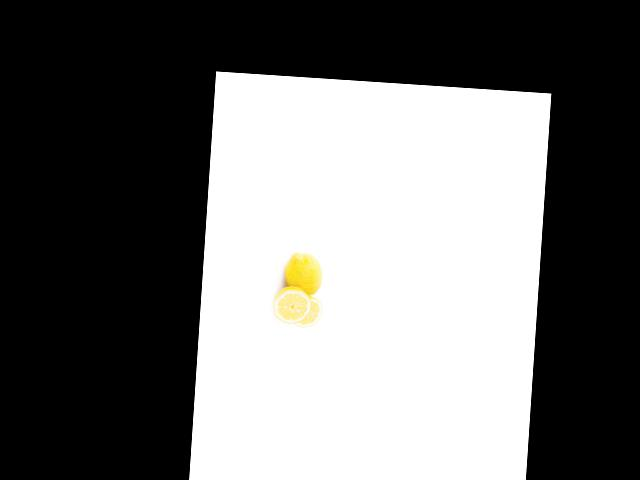lemon: (282, 248, 325, 297)
